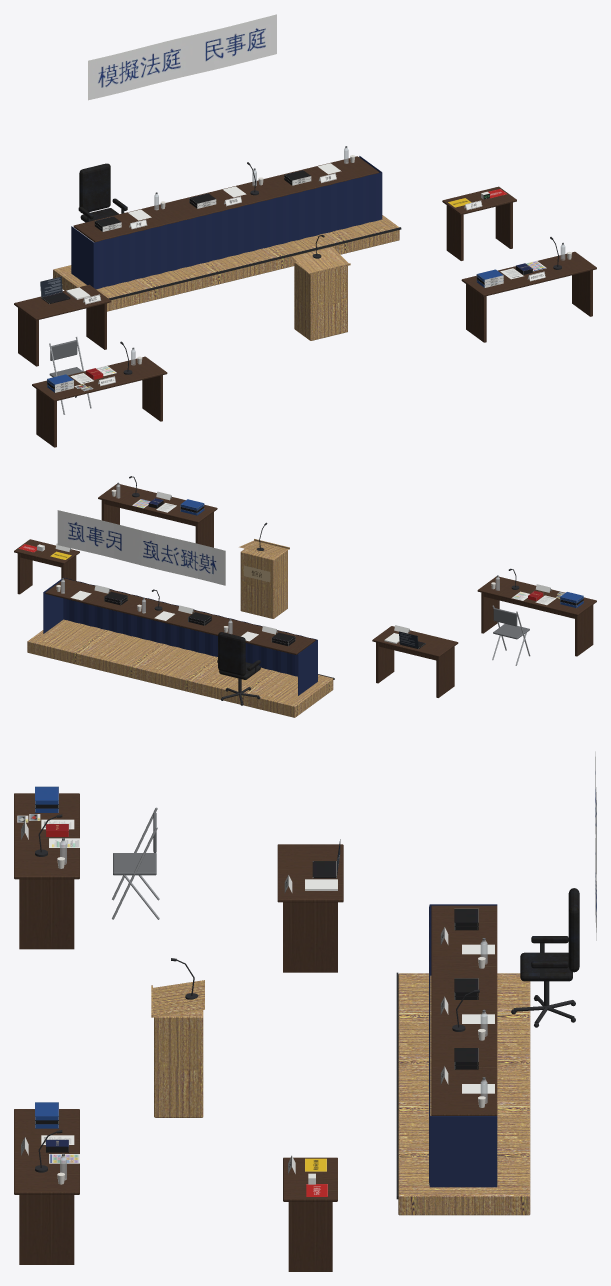
Rendered from moot_court_props.glb.
3 renders of one model, top to bottom at view 1: azimuth 30°, elevation 25°; view 2: azimuth 150°, elevation 25°; view 3: azimuth 270°, elevation 25°, orthographic. The views are drawn at different scales.
Parts seen in each view (by area): view 1: MC_JUDGE_BENCH_skirt, MC_BANNER_cloth, MC_DAIS_body, MC_JUDGE_BENCH_top, MC_PODIUM_body, MC_TABLE_PLA_t_top, MC_TABLE_DEF_t_top, MC_CLERK_t_top, MC_TIMER_t_top, MC_CHAIR_HIGH_seat, MC_JUDGE_BENCH_items, MC_TABLE_DEF_items (+4 smaller); view 2: MC_DAIS_body, MC_JUDGE_BENCH_skirt, MC_BANNER_cloth, MC_JUDGE_BENCH_top, MC_PODIUM_body, MC_TABLE_DEF_t_top, MC_TABLE_PLA_t_top, MC_CLERK_t_top, MC_TIMER_t_top, MC_CHAIR_HIGH_seat, MC_JUDGE_BENCH_items, MC_TABLE_DEF_items (+4 smaller); view 3: MC_DAIS_body, MC_JUDGE_BENCH_top, MC_TABLE_PLA_t_top, MC_TABLE_DEF_t_top, MC_CLERK_t_top, MC_PODIUM_body, MC_JUDGE_BENCH_skirt, MC_TIMER_t_top, MC_JUDGE_BENCH_items, MC_CHAIR_HIGH_seat, MC_TABLE_DEF_items, MC_TABLE_PLA_items (+6 smaller).
Boxes of the visible parts, <box> form: MC_JUDGE_BENCH_skirt: <box>71,156,382,289</box>; MC_BANNER_cloth: <box>88,14,276,100</box>; MC_DAIS_body: <box>53,215,399,311</box>; MC_JUDGE_BENCH_top: <box>73,156,379,242</box>; MC_PODIUM_body: <box>292,247,350,340</box>; MC_TABLE_PLA_t_top: <box>461,251,596,342</box>; MC_TABLE_DEF_t_top: <box>32,356,167,447</box>; MC_CLERK_t_top: <box>14,284,111,366</box>; MC_TIMER_t_top: <box>442,186,516,260</box>; MC_CHAIR_HIGH_seat: <box>78,163,127,222</box>; MC_JUDGE_BENCH_items: <box>94,163,341,231</box>; MC_TABLE_DEF_items: <box>47,365,116,392</box>; MC_DAIS_body: <box>27,619,333,717</box>; MC_JUDGE_BENCH_skirt: <box>43,577,317,695</box>; MC_BANNER_cloth: <box>57,510,225,585</box>; MC_JUDGE_BENCH_top: <box>45,578,315,654</box>; MC_PODIUM_body: <box>239,539,289,618</box>; MC_TABLE_DEF_t_top: <box>477,576,596,656</box>; MC_TABLE_PLA_t_top: <box>98,484,217,547</box>; MC_CLERK_t_top: <box>372,626,458,697</box>; MC_TIMER_t_top: <box>14,539,79,594</box>; MC_CHAIR_HIGH_seat: <box>217,632,260,679</box>; MC_JUDGE_BENCH_items: <box>70,585,295,646</box>; MC_TABLE_DEF_items: <box>511,584,583,608</box>; MC_DAIS_body: <box>398,973,530,1215</box>; MC_JUDGE_BENCH_top: <box>431,905,497,1115</box>; MC_TABLE_PLA_t_top: <box>14,1109,79,1264</box>; MC_TABLE_DEF_t_top: <box>14,793,79,949</box>; MC_CLERK_t_top: <box>277,844,343,972</box>; MC_PODIUM_body: <box>151,980,204,1117</box>; MC_JUDGE_BENCH_skirt: <box>429,904,497,1187</box>; MC_TIMER_t_top: <box>283,1157,337,1271</box>; MC_JUDGE_BENCH_items: <box>440,908,494,1093</box>; MC_CHAIR_HIGH_seat: <box>520,888,579,981</box>; MC_TABLE_DEF_items: <box>17,786,79,847</box>; MC_TABLE_PLA_items: <box>21,1102,79,1163</box>.
Bounding box in the file's own units: 8.75 × 2.91 × 5.31.
10 materials, 4 textured.
